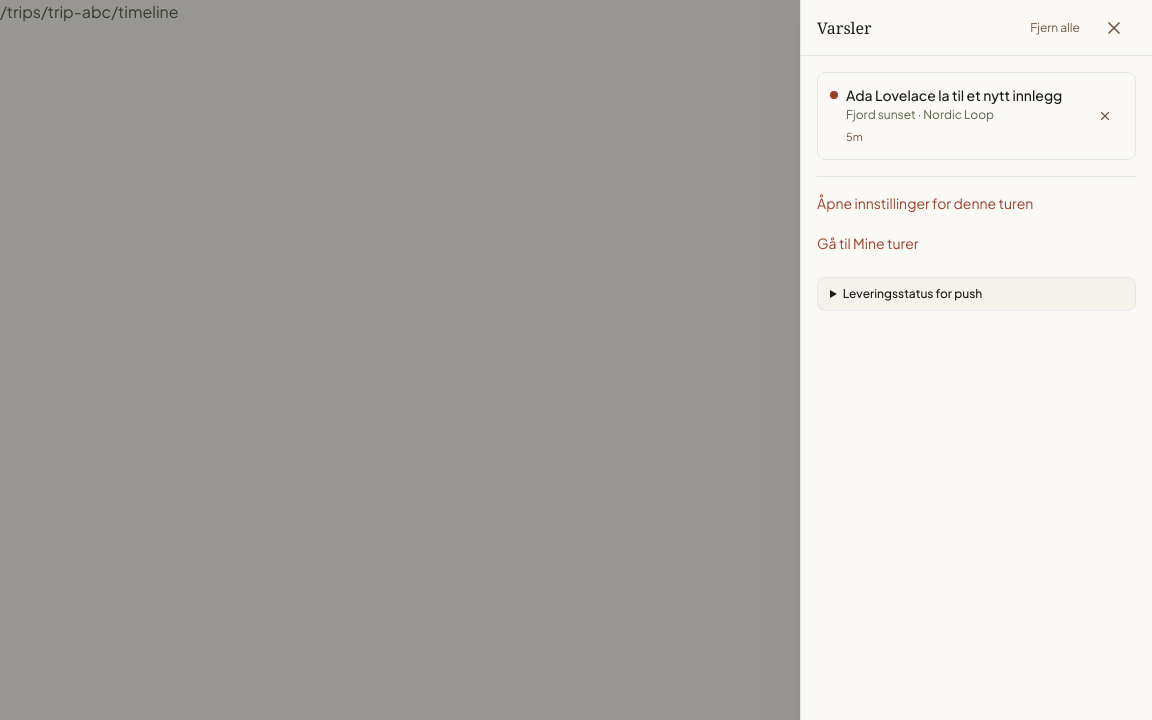
it: Notifications inbox (bell badge + panel) › navigates to the deep link when a trip.new_entry notification is activated
Click the text "Ada Lovelace la til et nytt innlegg".
click(954, 95)  # box [846,85,1062,105]
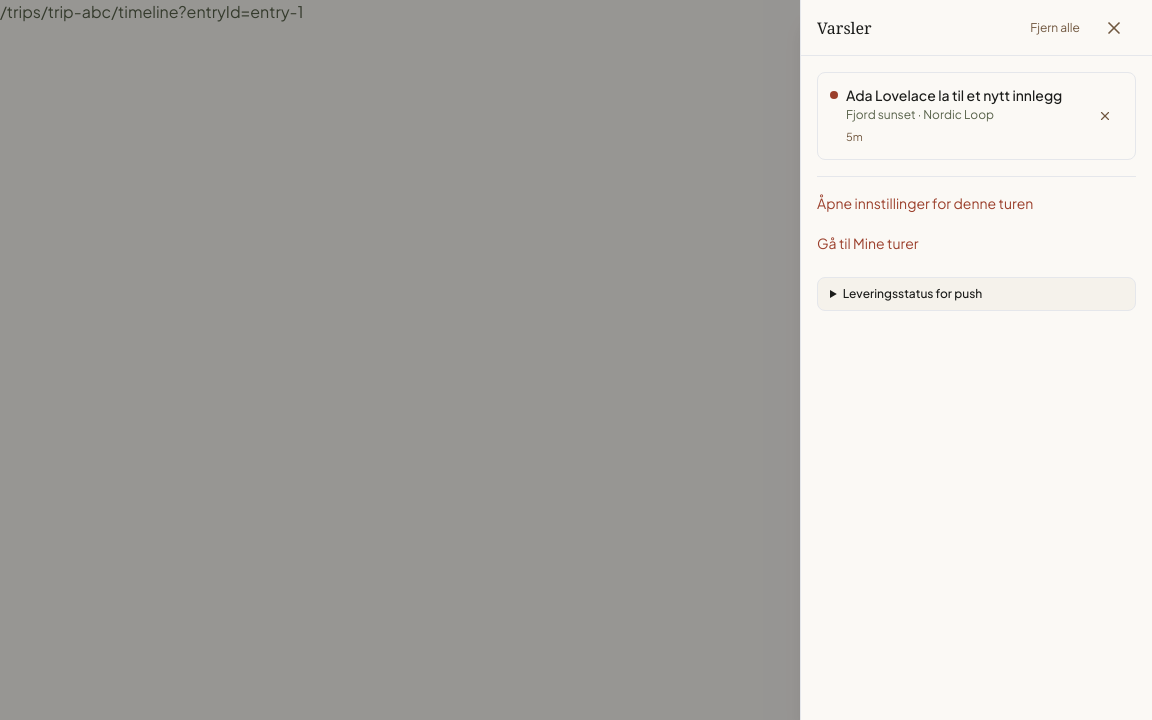
expect the text with test id "router-path" reads "/trips/trip-abc/timeline?entryId=entry-1": met, box [0,1,303,22]
